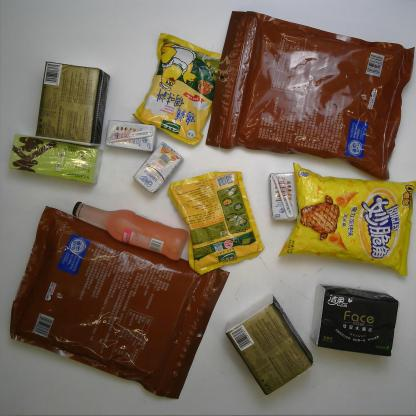Alcohol: (70, 200, 190, 262)
Dried Food: (7, 202, 232, 401), (203, 7, 415, 182)
Instant Drink: (7, 131, 105, 187)
Milk: (130, 140, 184, 196), (102, 118, 160, 154), (267, 171, 300, 223)
Puffed Food: (274, 159, 416, 278)
Seasoner: (130, 29, 225, 148), (165, 169, 266, 276)
Tissue: (222, 290, 317, 398), (33, 58, 112, 149), (308, 284, 401, 358)
